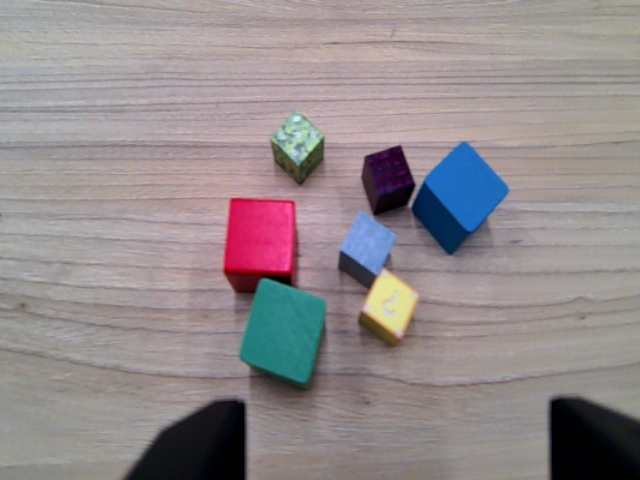brick: (363, 144, 414, 209)
grass: (270, 110, 321, 175)
lucky: (369, 273, 417, 337)
stone: (343, 212, 386, 272)
